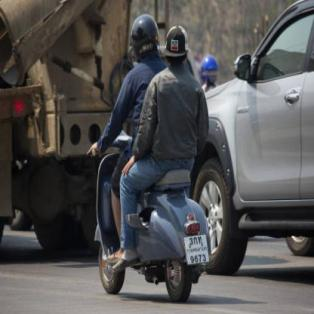Motocicleta: (90, 118, 203, 296)
